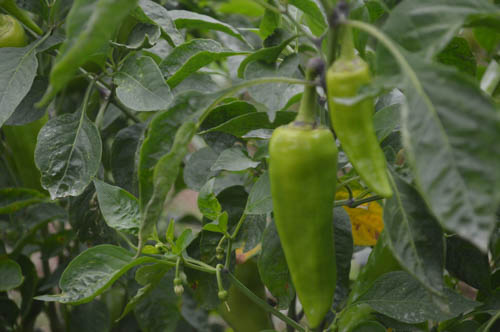ChiliPepper: (272, 126, 337, 328), (329, 67, 398, 198)
